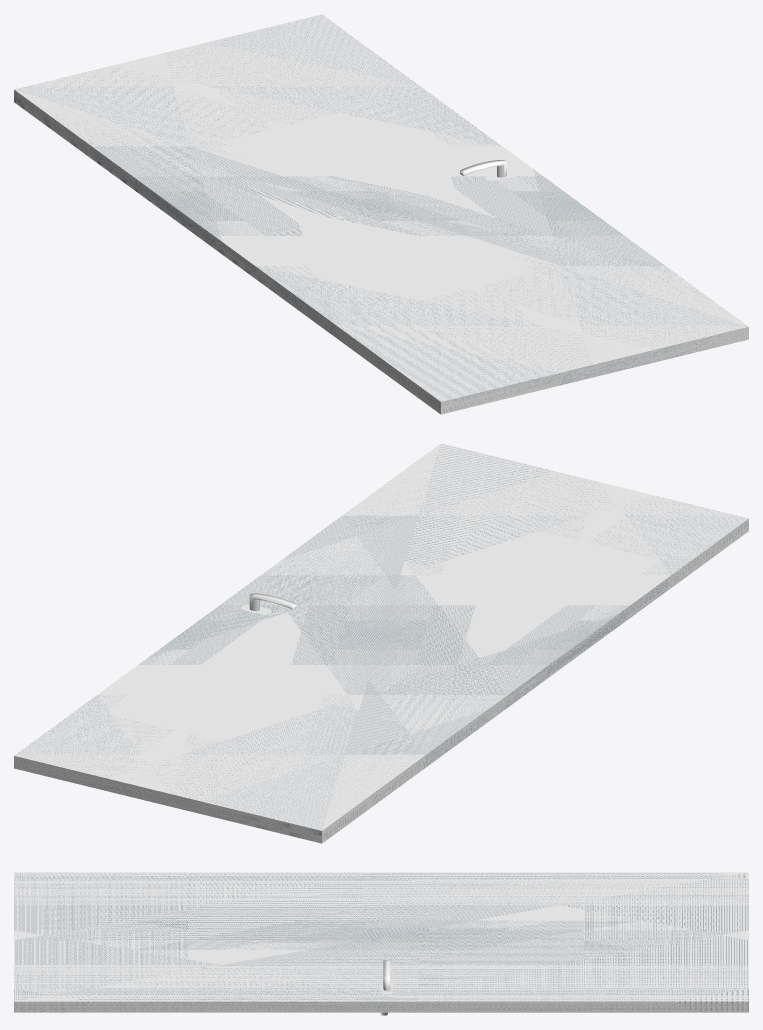
The model's file is whitedoor.dae.
3 views of the same model, one above another, from view 1: azimuth 30°, elevation 25°; view 2: azimuth 150°, elevation 25°; view 3: azimuth 270°, elevation 25° (orthographic). The views are drawn at different scales.
Parts seen in each view (by area): view 1: SketchUp; view 2: SketchUp; view 3: SketchUp.
Boxes of the visible parts, x1,y1,x2,y2 form: SketchUp: [14, 14, 748, 414]; SketchUp: [14, 443, 748, 843]; SketchUp: [14, 872, 748, 1012].
Size of the model in its own units: 32.56 by 78.14 by 5.02.
